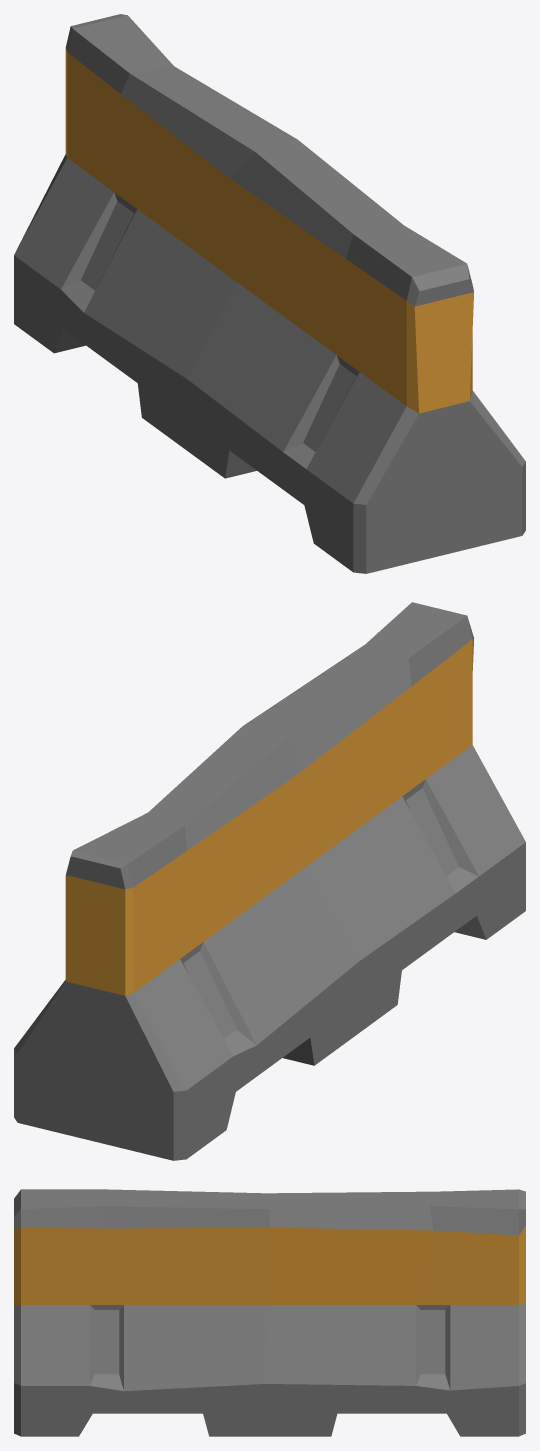
The model's file is dividers-jersey-barrier-concrete.glb.
3 views of the same model, one above another, from view 1: azimuth 30°, elevation 25°; view 2: azimuth 150°, elevation 25°; view 3: azimuth 270°, elevation 25° (orthographic). The views are drawn at different scales.
Visible parts, largest first — view 1: jersey-barrier-concrete; view 2: jersey-barrier-concrete; view 3: jersey-barrier-concrete.
Boxes of the visible parts, x1,y1,x2,y2 form: jersey-barrier-concrete: (14,14,525,573); jersey-barrier-concrete: (14,602,525,1160); jersey-barrier-concrete: (14,1189,525,1436).
Size of the model in its own units: 0.6543 by 1.02 by 2.29.
1 material, 1 textured.
